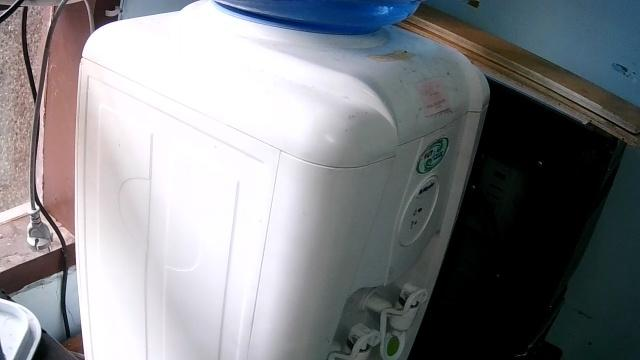Dispenser: (75, 0, 490, 358)
